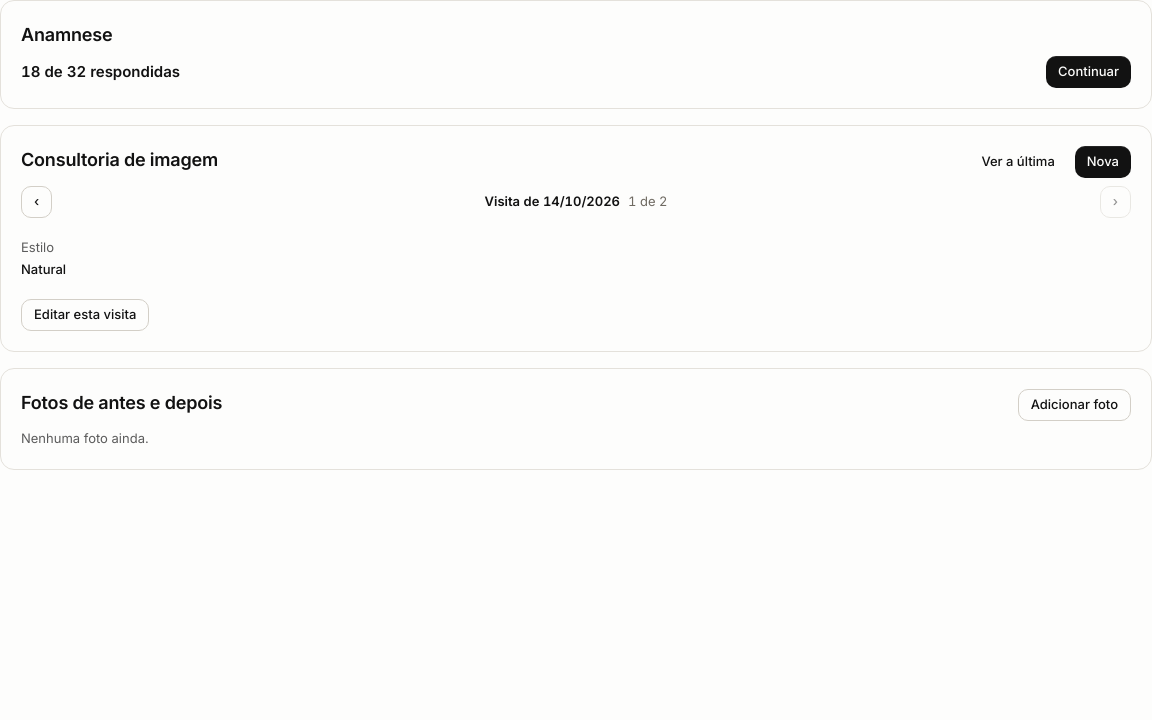
Test case: consultorias por visita navegam com ‹ ›, como no Avec, e 'Ver a última' volta à mais nova
Expected: the text "Visita de 14/10/2026" is shown, [485, 193, 620, 209]
Expected: the text "Natural" is shown, [21, 260, 66, 276]
Click the button named "Visita anterior" at (37, 202), box [21, 186, 52, 218]
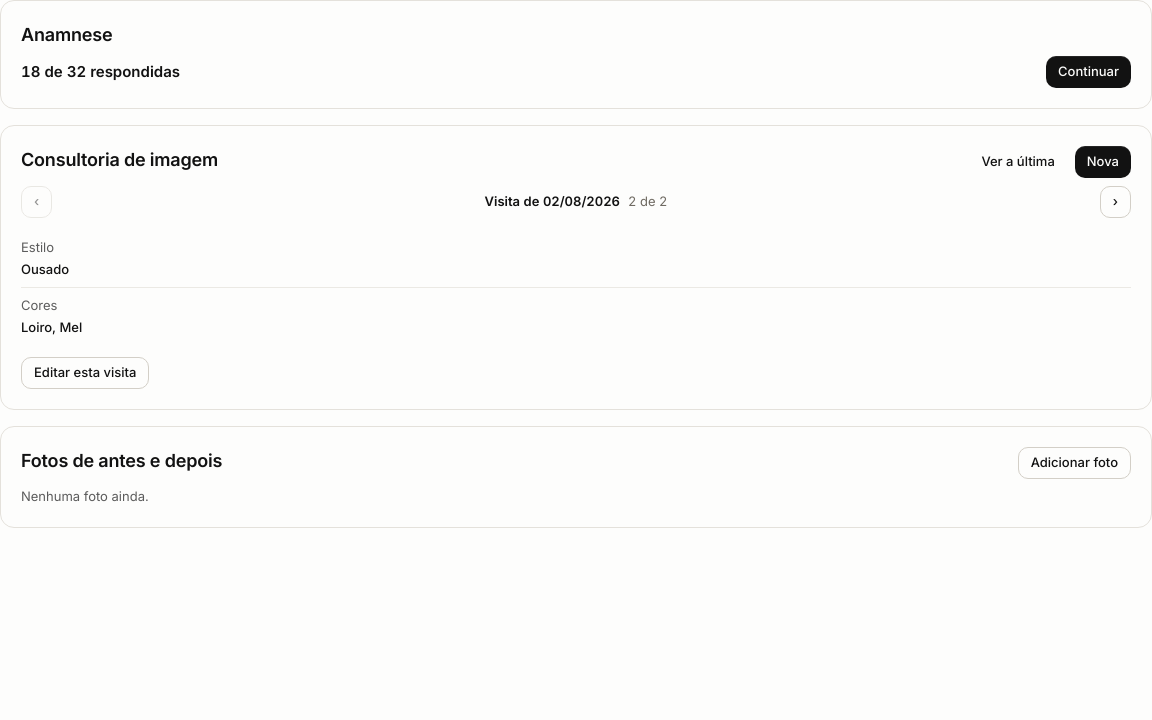
Expected: the text "Visita de 02/08/2026" is shown, [485, 193, 620, 209]
Expected: the text "Ousado" is shown, [21, 260, 69, 276]
Expected: the text "Loiro, Mel" is shown, [21, 318, 82, 334]
Click the button "Ver a última" at (1018, 162), box [969, 146, 1067, 178]
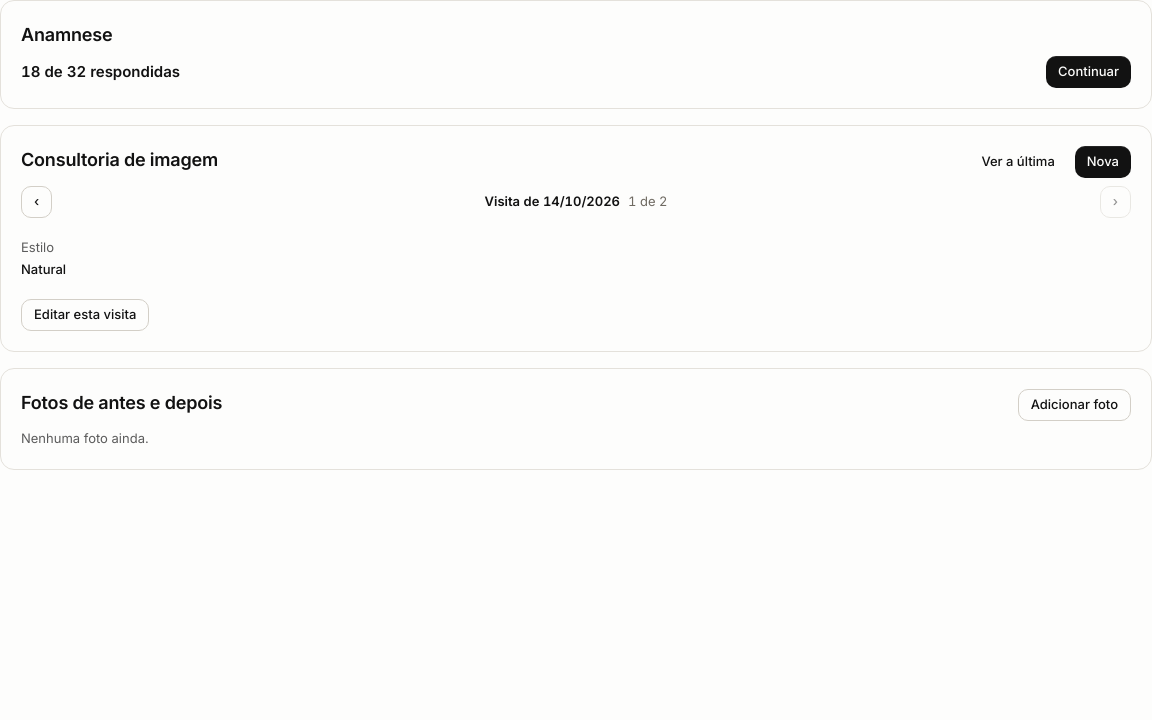
Expected: the text "Visita de 14/10/2026" is shown, [485, 193, 620, 209]
